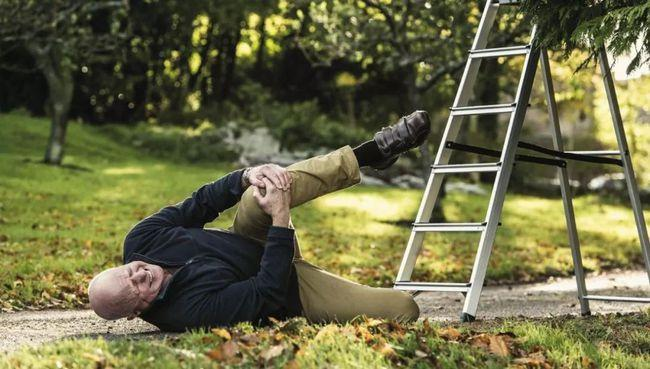falling: (77, 109, 444, 336)
